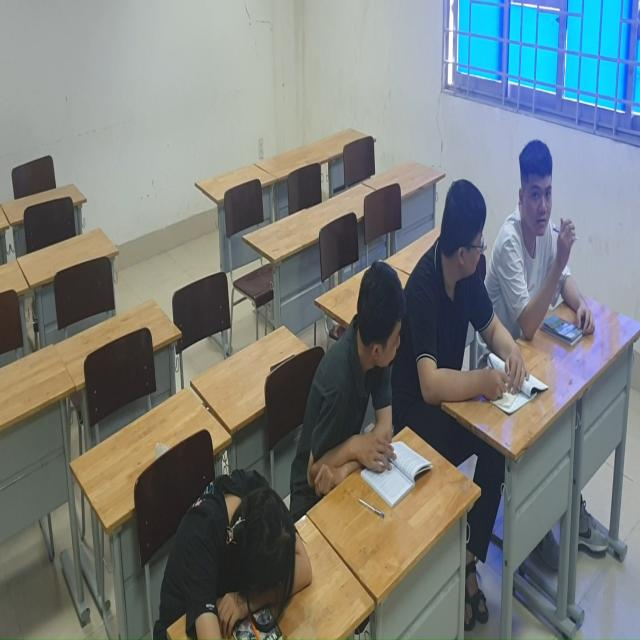read: (302, 250, 436, 517), (417, 184, 529, 431), (497, 132, 596, 355)
sleep: (148, 453, 311, 640)
